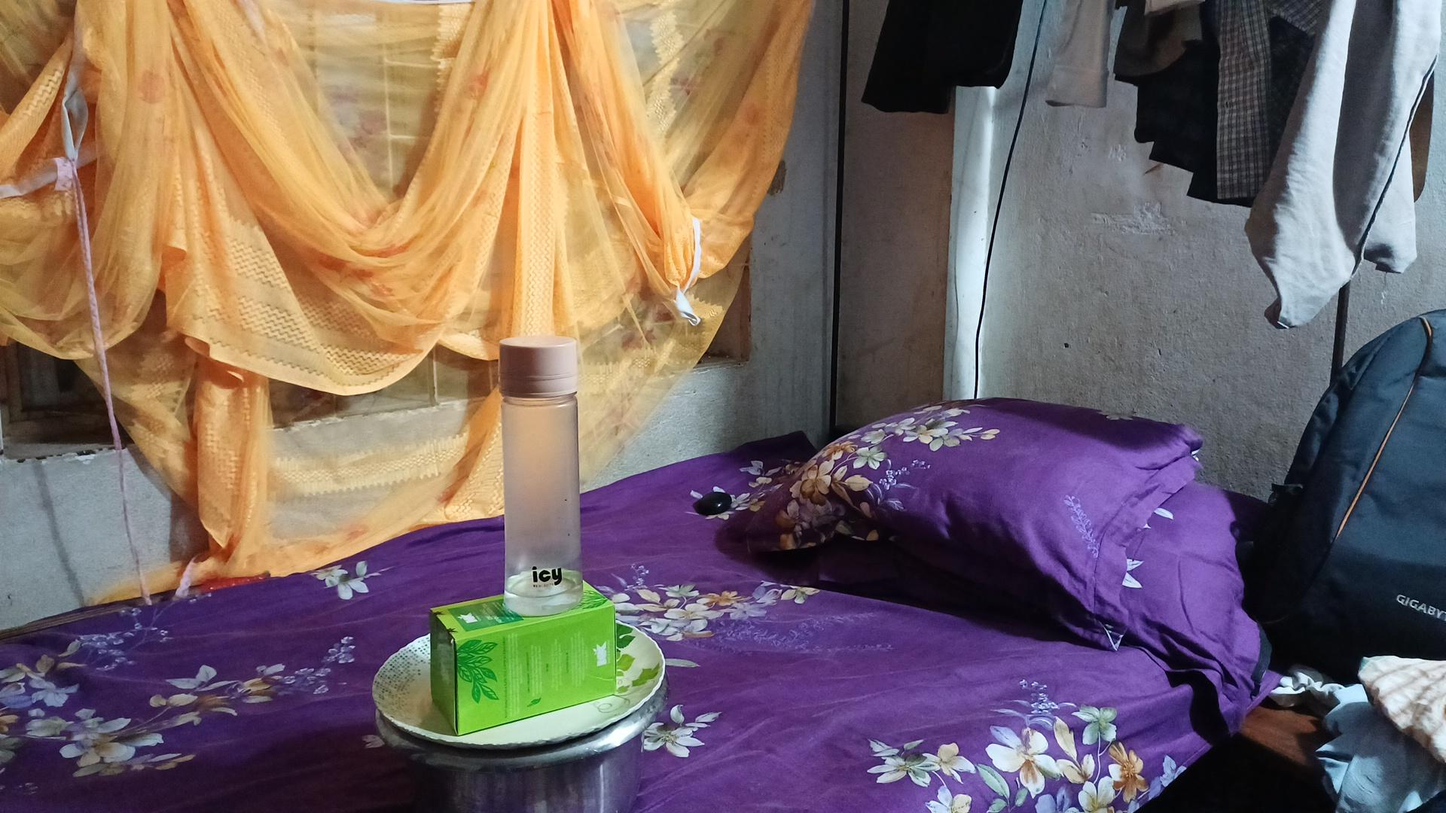Bag: (1255, 294, 1446, 640)
Bottle: (485, 331, 611, 598)
Bowl: (302, 718, 707, 813)
Box: (380, 587, 653, 705)
Pillow: (750, 388, 1211, 621)
Plate: (333, 655, 697, 737)
